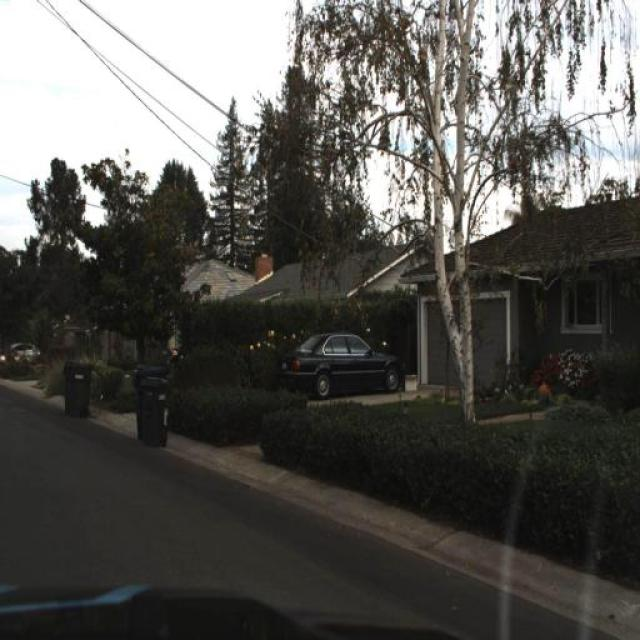car: (280, 332, 404, 397)
